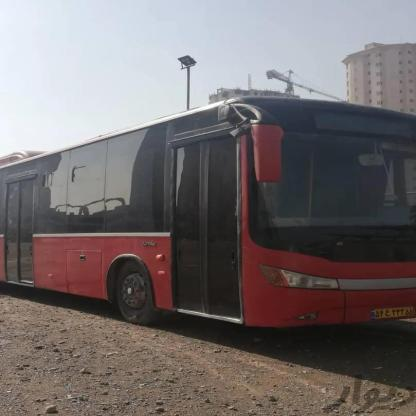Bus: (0, 88, 416, 348)
